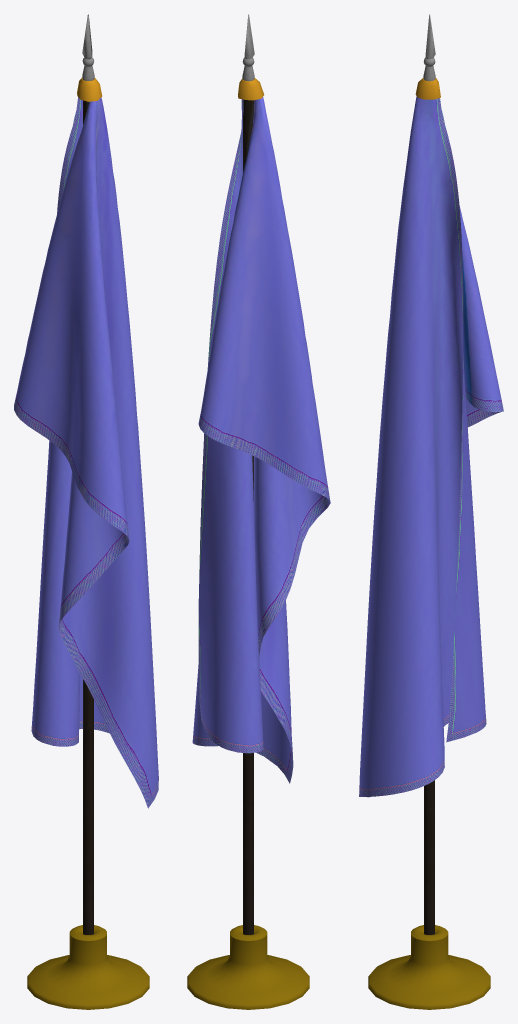
File: Flag.fbx
The picture shows the model from 3 angles, left to right: view 1: azimuth 90°, elevation 25°; view 2: azimuth 150°, elevation 25°; view 3: azimuth 270°, elevation 25°; orthographic projection.
Parts seen in each view (by area): view 1: Flag_USA; view 2: Flag_USA; view 3: Flag_USA.
Boxes of the visible parts, x1,y1,x2,y2 form: Flag_USA: (14, 14, 158, 1009); Flag_USA: (187, 14, 330, 1009); Flag_USA: (359, 14, 503, 1009).
Size of the model in its own units: 40.04 by 289 by 39.15.
